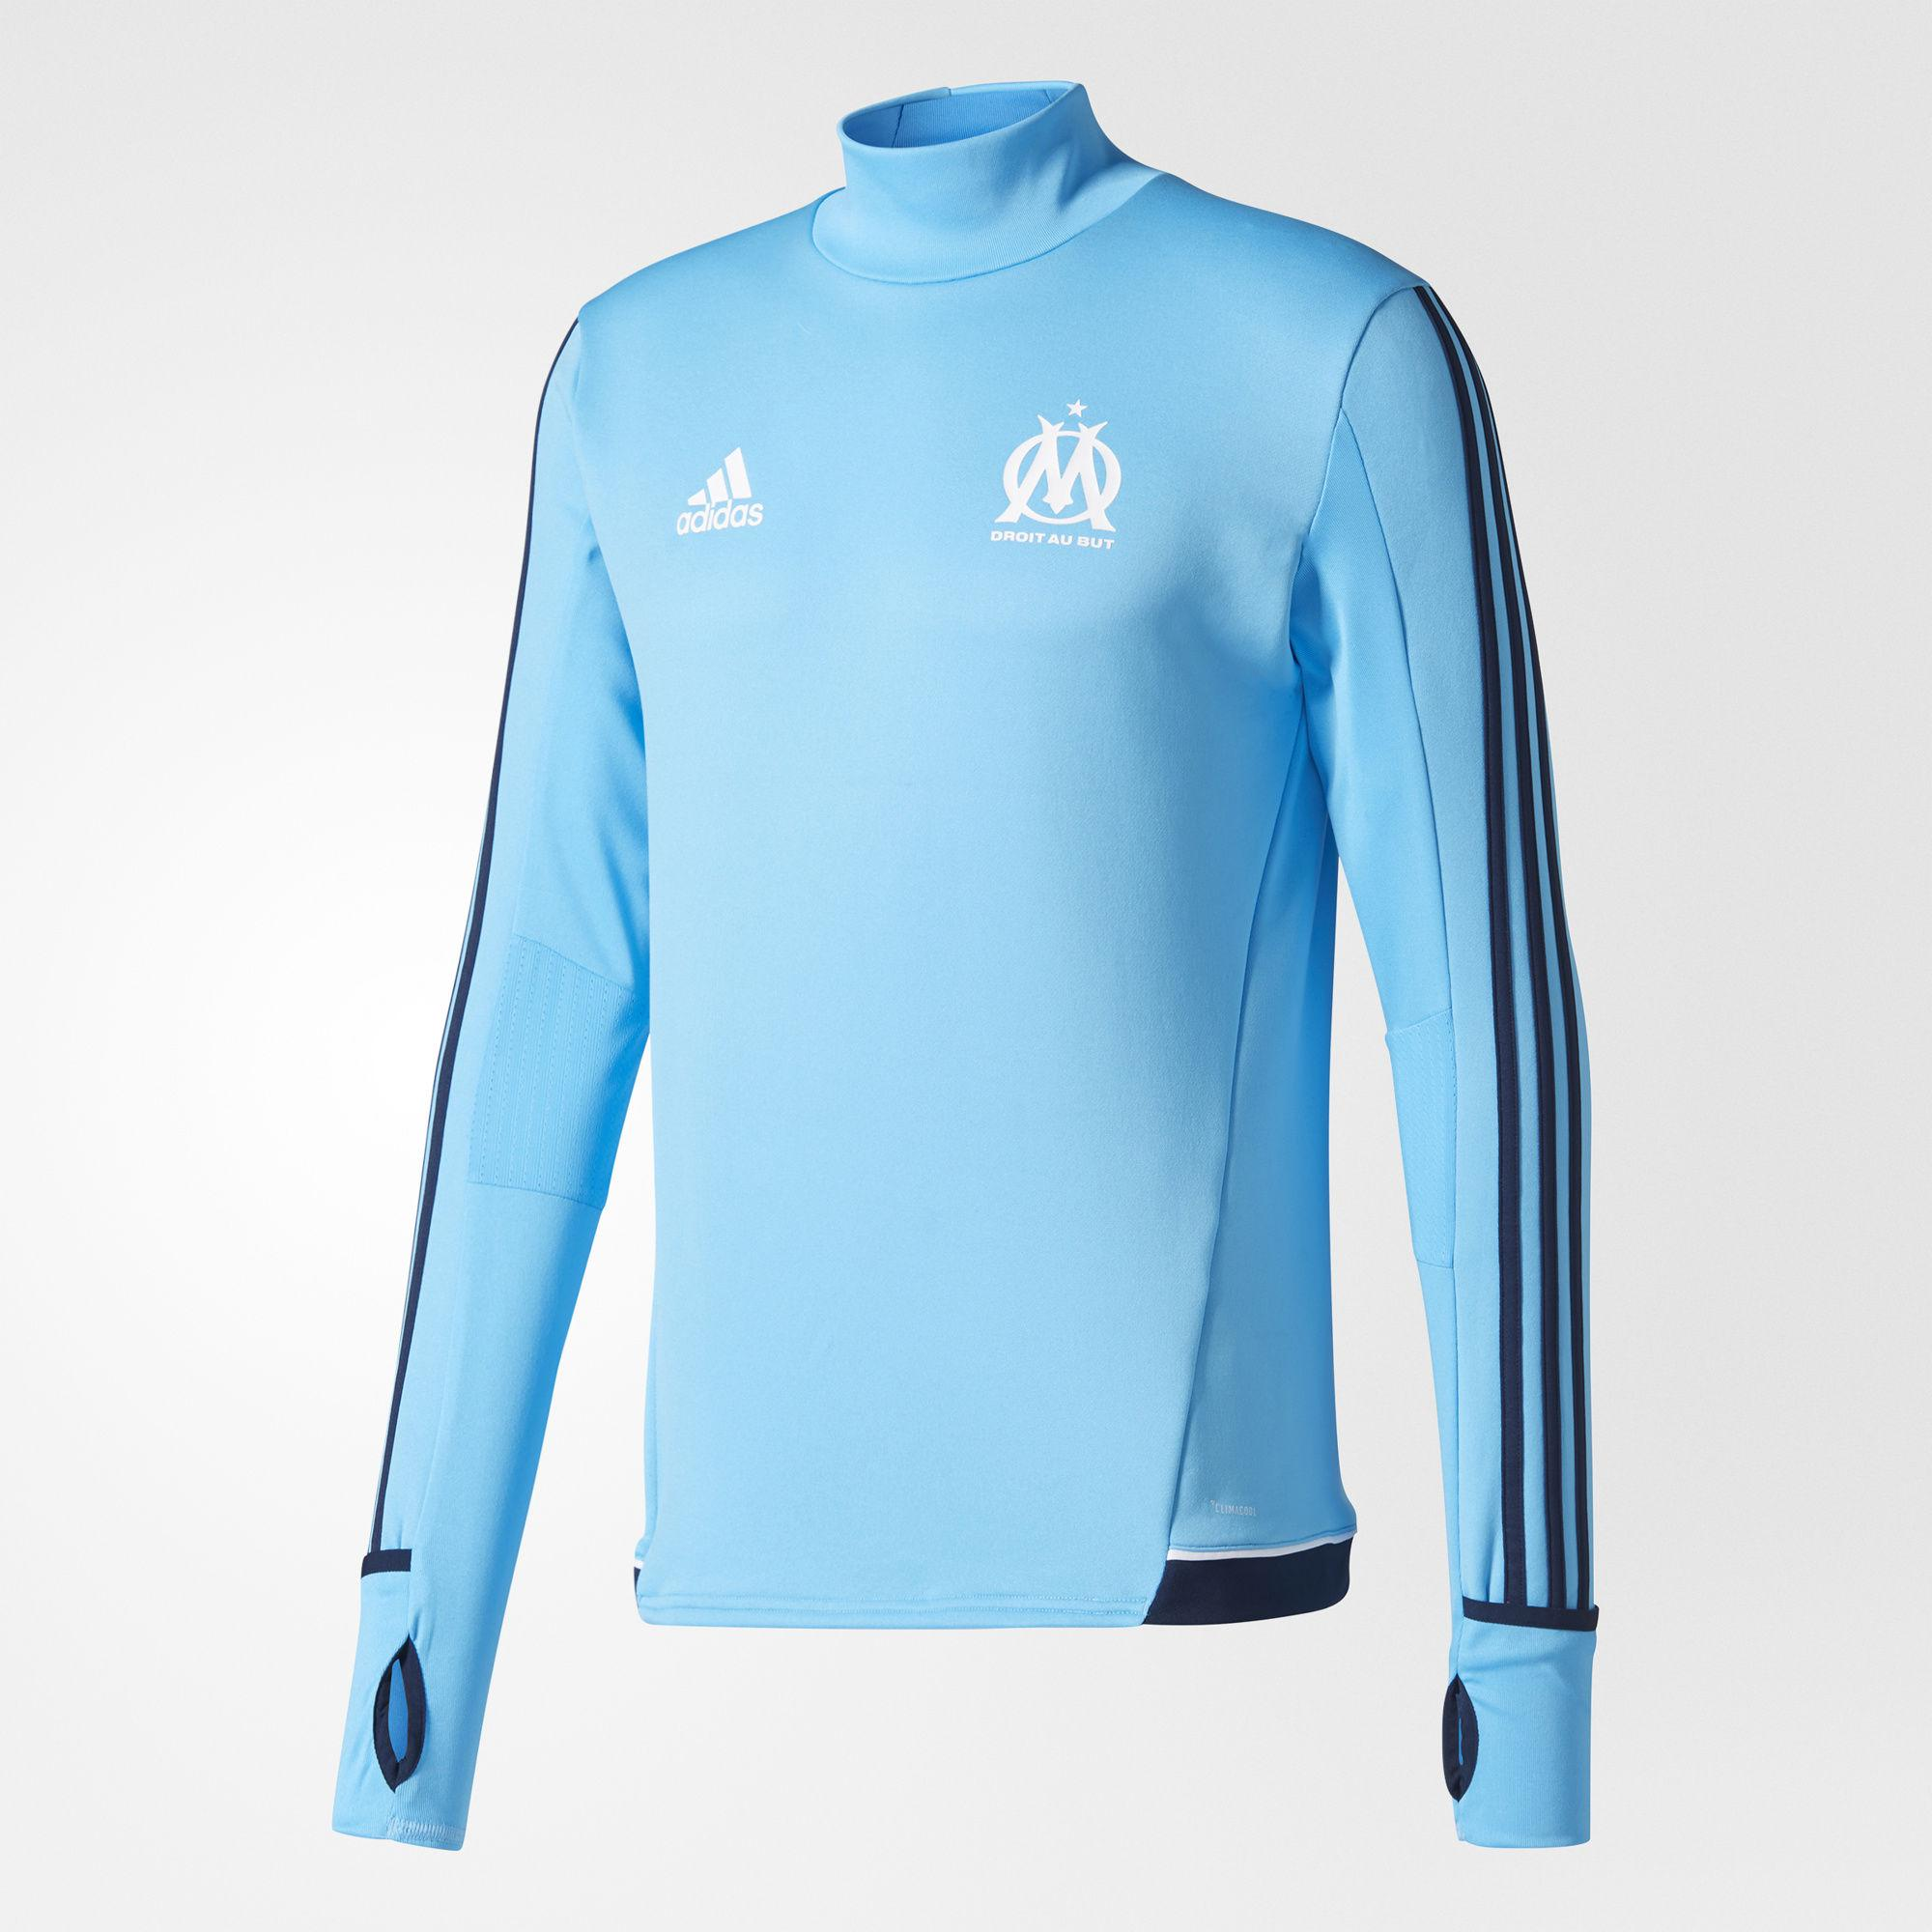teeshirt: (262, 64, 1684, 1861)
